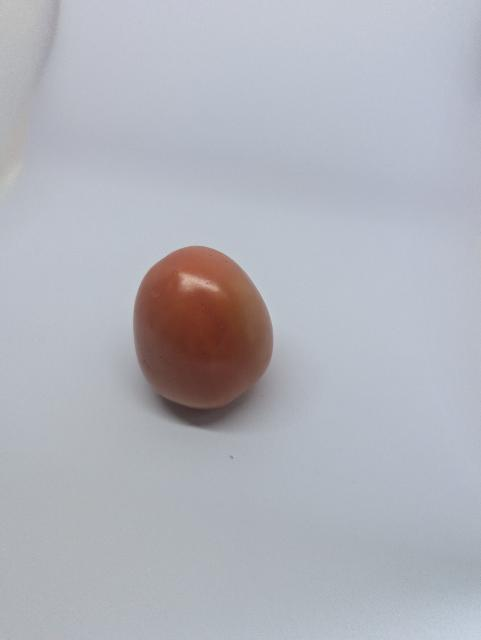red: (125, 240, 284, 431)
